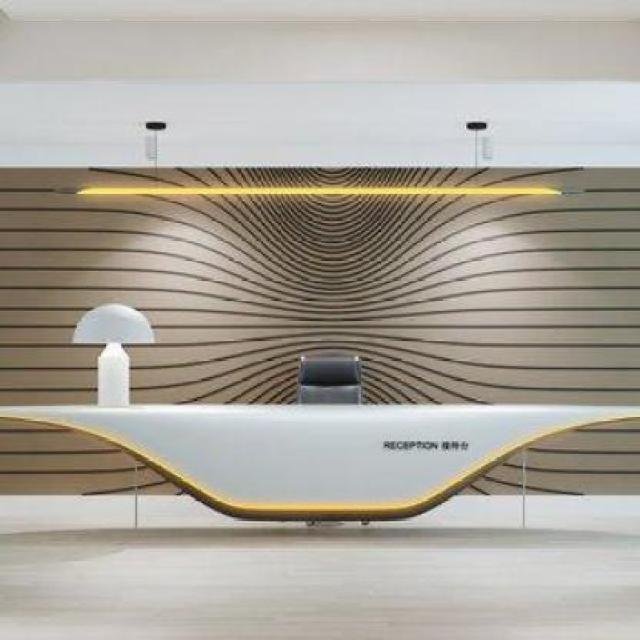frontdesk: (0, 391, 640, 541)
